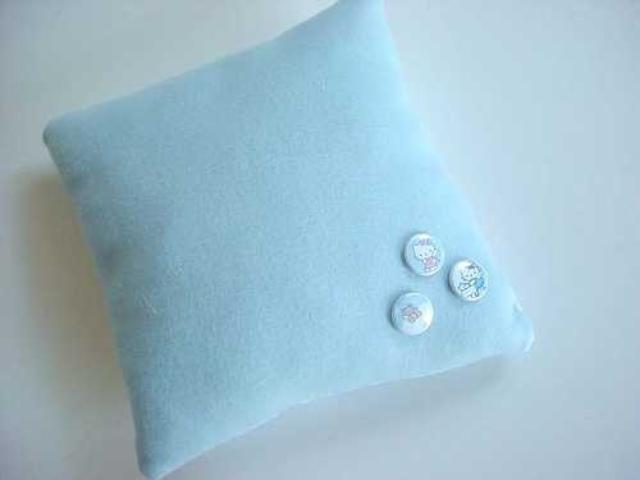pillow: (41, 0, 535, 478)
